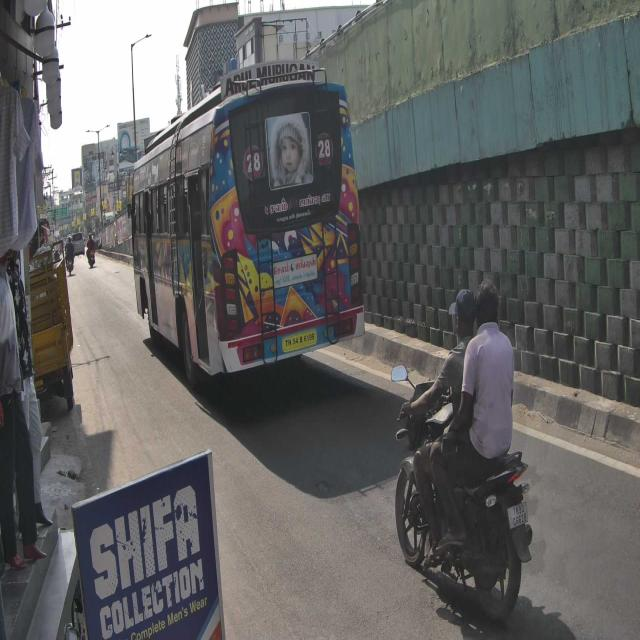double_rider: (390, 276, 533, 624)
